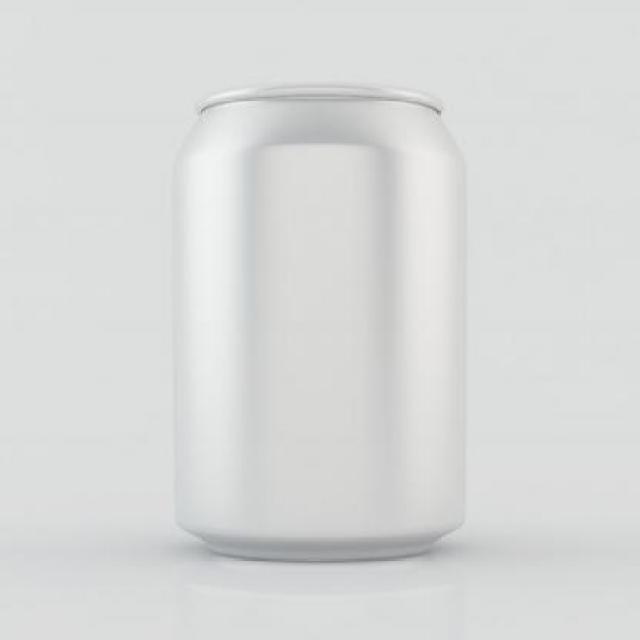can: (158, 74, 502, 583)
